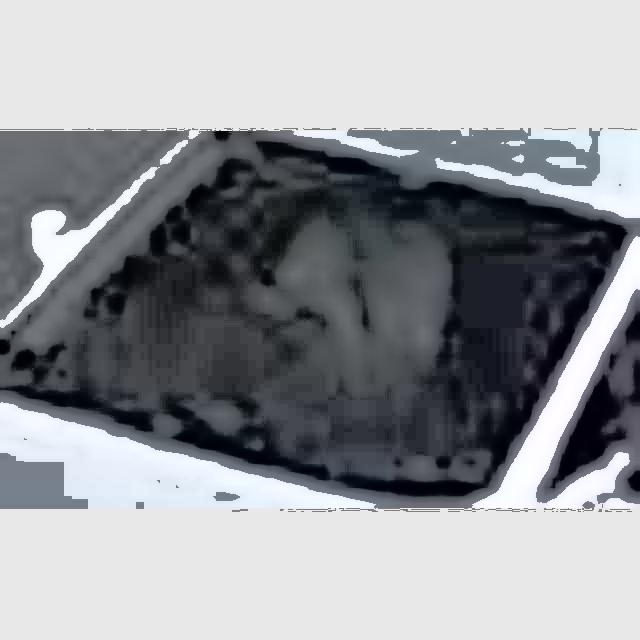pakai: (238, 180, 459, 385)
